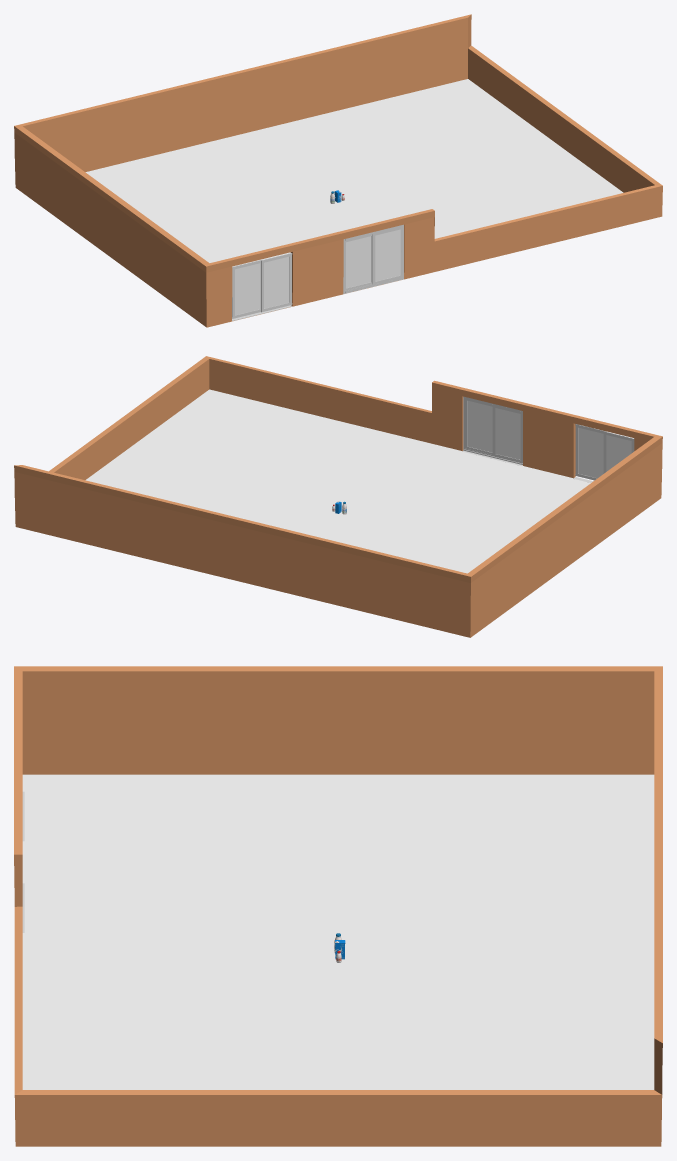
File: store.gltf
3 renders of one model, top to bottom at view 1: azimuth 30°, elevation 25°; view 2: azimuth 150°, elevation 25°; view 3: azimuth 270°, elevation 25°, orthographic. The views are drawn at different scales.
Visible parts, largest first — view 1: Plane.001, Window.R.001, Window.R, Window.L.001, Window.L, WindowFrame; view 2: Plane.001, Window.L, Window.R.001, Window.R, Window.L.001, WindowFrame; view 3: Plane.001.
Boxes of the visible parts, box(x1,y1,x2,y2) form: Plane.001: box(14, 14, 662, 327); Window.R.001: box(261, 253, 292, 312); Window.R: box(372, 226, 401, 284); Window.L.001: box(232, 259, 262, 318); Window.L: box(345, 234, 372, 290); WindowFrame: box(343, 224, 403, 294); Plane.001: box(14, 356, 662, 637); Window.L: box(492, 404, 522, 463); Window.R.001: box(575, 424, 606, 480); Window.R: box(465, 398, 492, 454); Window.L.001: box(603, 431, 634, 473); WindowFrame: box(463, 396, 522, 464); Plane.001: box(14, 666, 662, 1146).
Size of what is drawn, in the model's own units: 22.6 by 2.92 by 16.43.
Materials: 16 (3 with a texture image).
